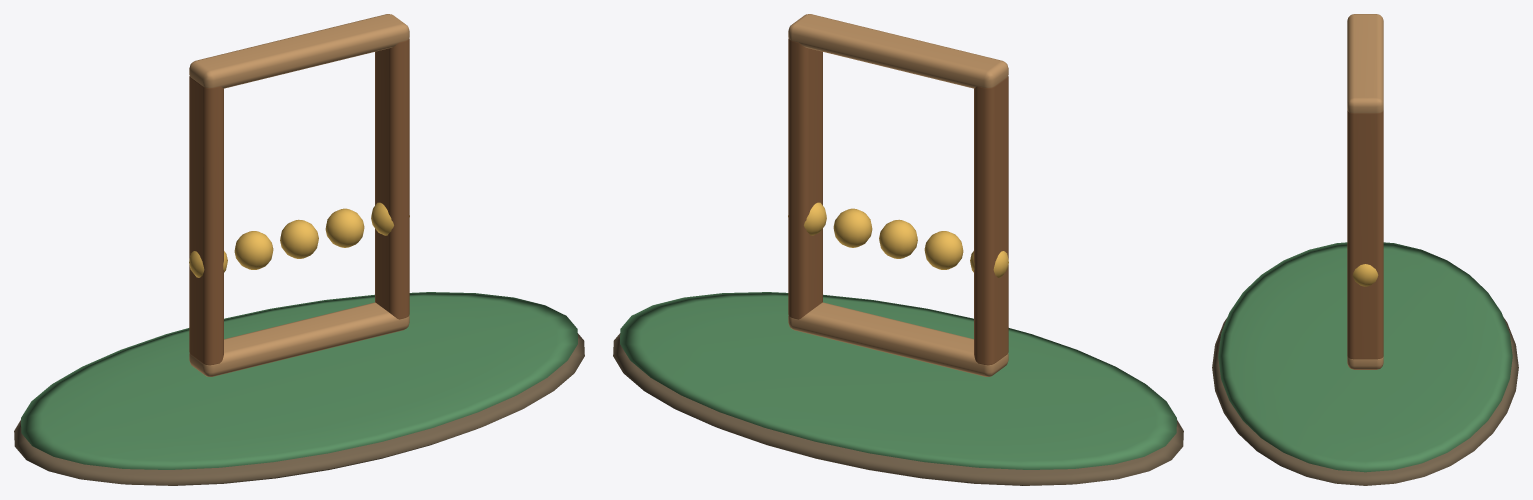
File: five.glb
3 views of the same model, side by side, from view 1: azimuth 30°, elevation 25°; view 2: azimuth 150°, elevation 25°; view 3: azimuth 270°, elevation 25° (orthographic). The views are drawn at different scales.
Visible parts, largest first — view 1: five_surface_01, five_surface_03, five_surface_04, five_surface_00, five_surface_02; view 2: five_surface_01, five_surface_03, five_surface_04, five_surface_00, five_surface_02; view 3: five_surface_01, five_surface_03, five_surface_00, five_surface_04, five_surface_02.
Part boxes in pixels (<box>): five_surface_01: <box>21,292,577,469</box>; five_surface_03: <box>189,38,409,365</box>; five_surface_04: <box>189,14,409,376</box>; five_surface_00: <box>14,333,584,485</box>; five_surface_02: <box>189,202,409,277</box>; five_surface_01: <box>620,292,1176,469</box>; five_surface_03: <box>788,38,1008,365</box>; five_surface_04: <box>788,14,1008,376</box>; five_surface_00: <box>613,333,1183,485</box>; five_surface_02: <box>788,202,1008,277</box>; five_surface_01: <box>1218,242,1512,472</box>; five_surface_03: <box>1347,110,1383,359</box>; five_surface_00: <box>1212,317,1518,485</box>; five_surface_04: <box>1347,14,1383,369</box>; five_surface_02: <box>1352,264,1378,286</box>.
Bounding box in the file's own units: 4.56 × 2.93 × 2.5.
